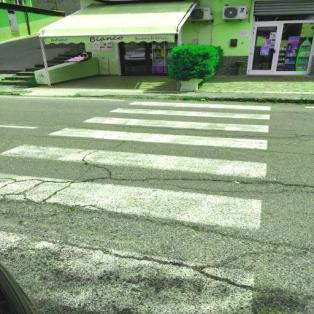Paso de Cebra: (0, 169, 272, 313), (45, 116, 275, 154)
